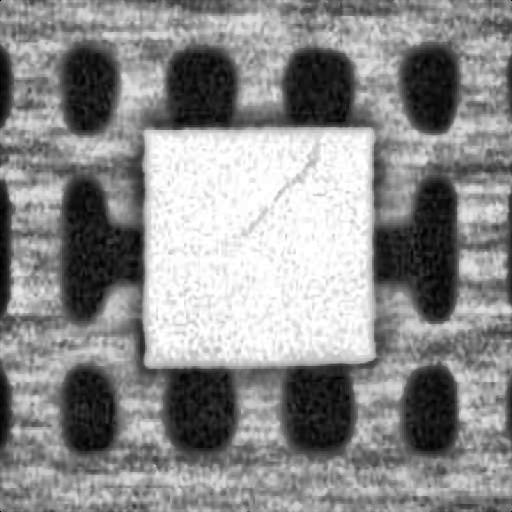DIE_CRACK: (242, 136, 320, 234)
